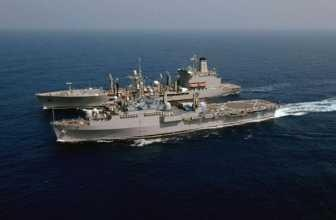warship: (51, 68, 279, 145), (36, 52, 248, 110)
